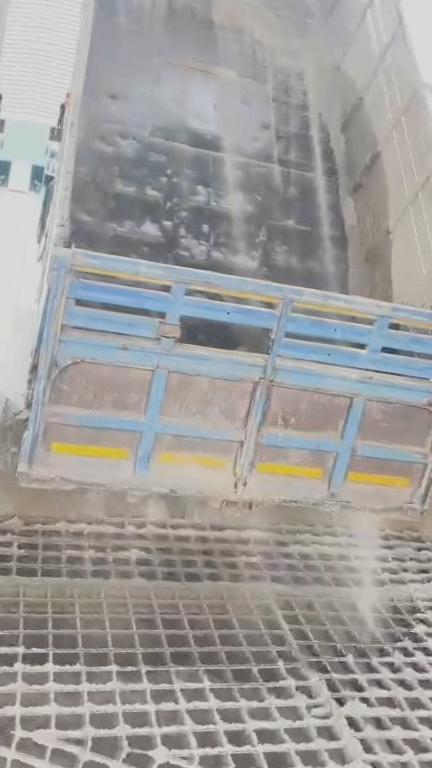sand: (113, 0, 369, 291), (0, 562, 432, 629), (0, 461, 136, 520), (339, 474, 432, 549), (320, 681, 378, 768), (351, 513, 381, 629), (281, 0, 316, 6)
